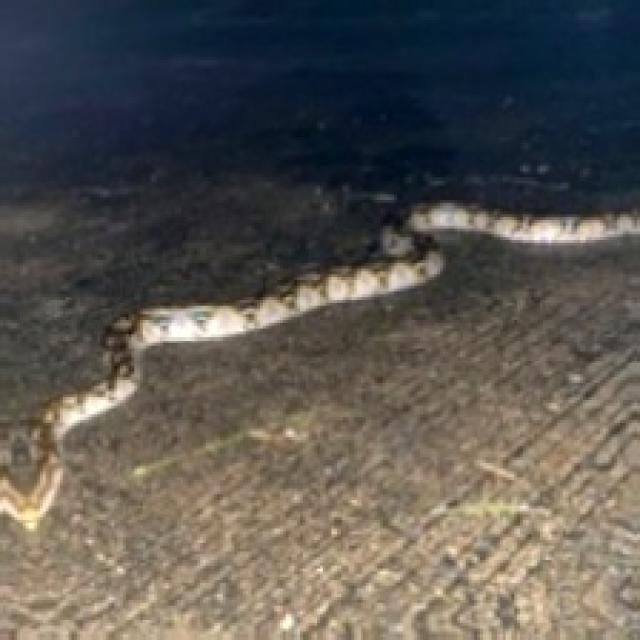reticulated python: (0, 251, 440, 526), (409, 203, 637, 240)
